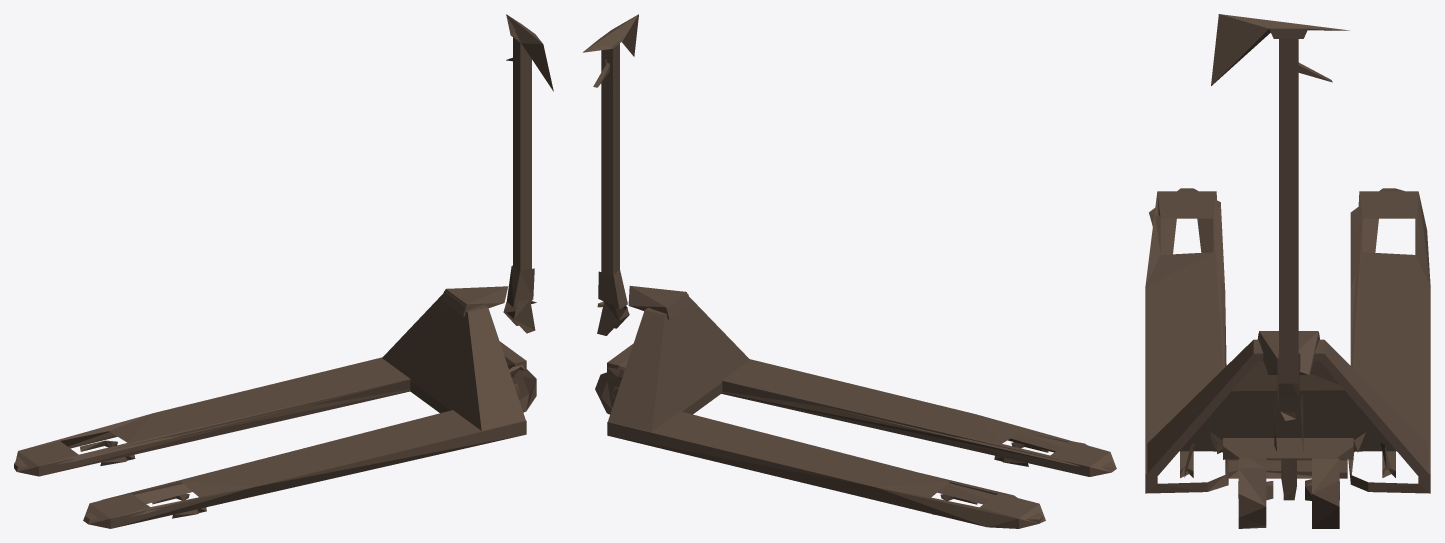
The model's file is pallet-truck.lod0.glb.
3 renders of one model, left to right at view 1: azimuth 30°, elevation 25°; view 2: azimuth 150°, elevation 25°; view 3: azimuth 270°, elevation 25°, orthographic. The views are drawn at different scales.
Visible parts, largest first — view 1: defaultMaterial; view 2: defaultMaterial; view 3: defaultMaterial.
Boxes of the visible parts, bbox=[...] form: defaultMaterial: bbox=[14, 14, 553, 528]; defaultMaterial: bbox=[583, 14, 1116, 528]; defaultMaterial: bbox=[1145, 14, 1430, 528].
Size of the model in its own units: 1.6 by 1.17 by 0.5747.
